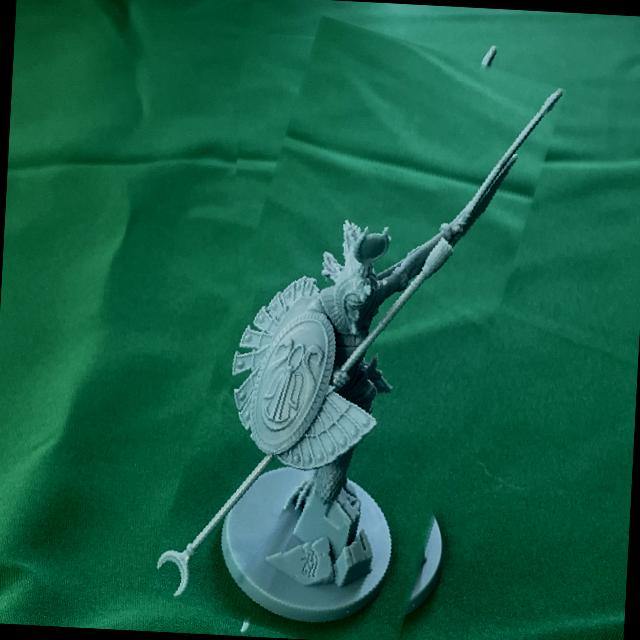isis: (177, 20, 534, 640)
